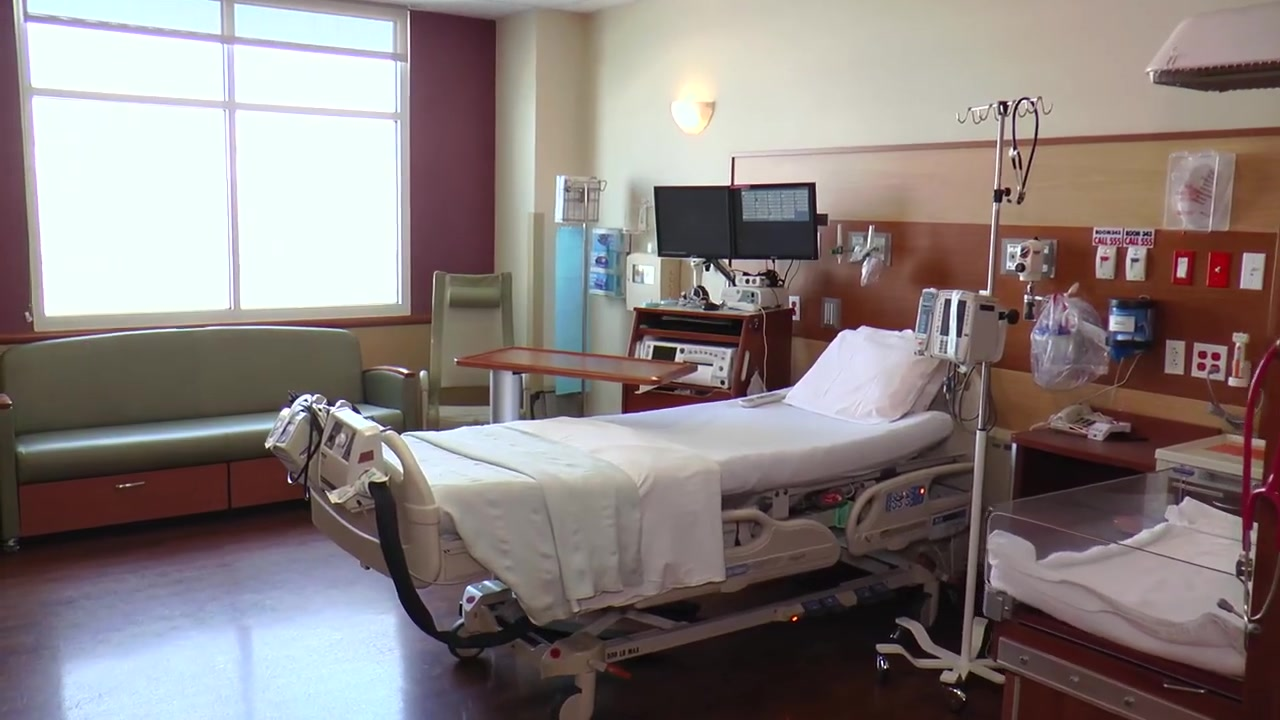bedrail: (848, 462, 974, 553), (723, 510, 841, 588)
bedside_table: (1007, 409, 1217, 503)
chair: (417, 271, 523, 430)
computer: (648, 183, 733, 263), (734, 184, 819, 263)
drawer: (624, 298, 796, 406)
foot_board: (306, 412, 436, 589)
handle: (112, 479, 150, 492)
hospital_bed: (302, 323, 988, 702)
infusion_pump: (917, 287, 996, 363)
iv_pole: (952, 97, 1053, 697), (569, 176, 605, 352)
medical_waste_container: (628, 251, 680, 314)
overbed_table: (452, 346, 698, 424)
panda_baby_warmer: (984, 5, 1277, 720)
sequential_compression: (317, 404, 403, 525)
sofa: (1, 324, 418, 545)
telephone: (1047, 400, 1116, 439)
